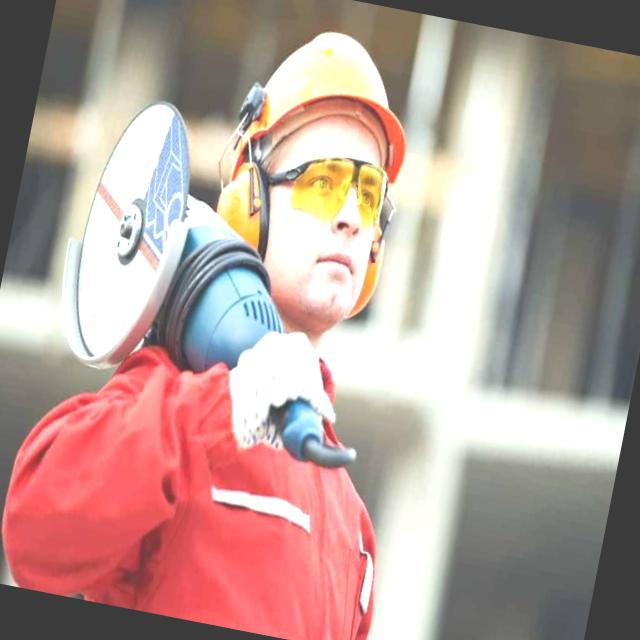goggles: (252, 138, 406, 232)
helmet: (235, 7, 434, 175)
no-vest: (38, 334, 419, 640)
